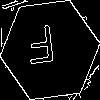F: (25, 25, 58, 74)
